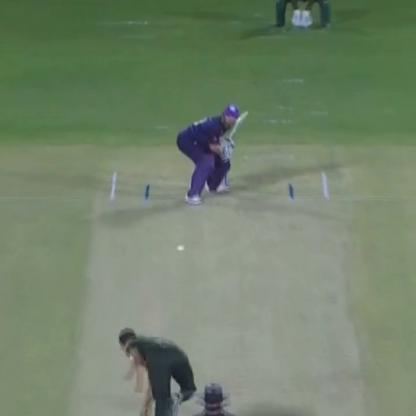bat: (223, 103, 250, 147), (172, 238, 187, 253)
pitch: (84, 172, 350, 416)
